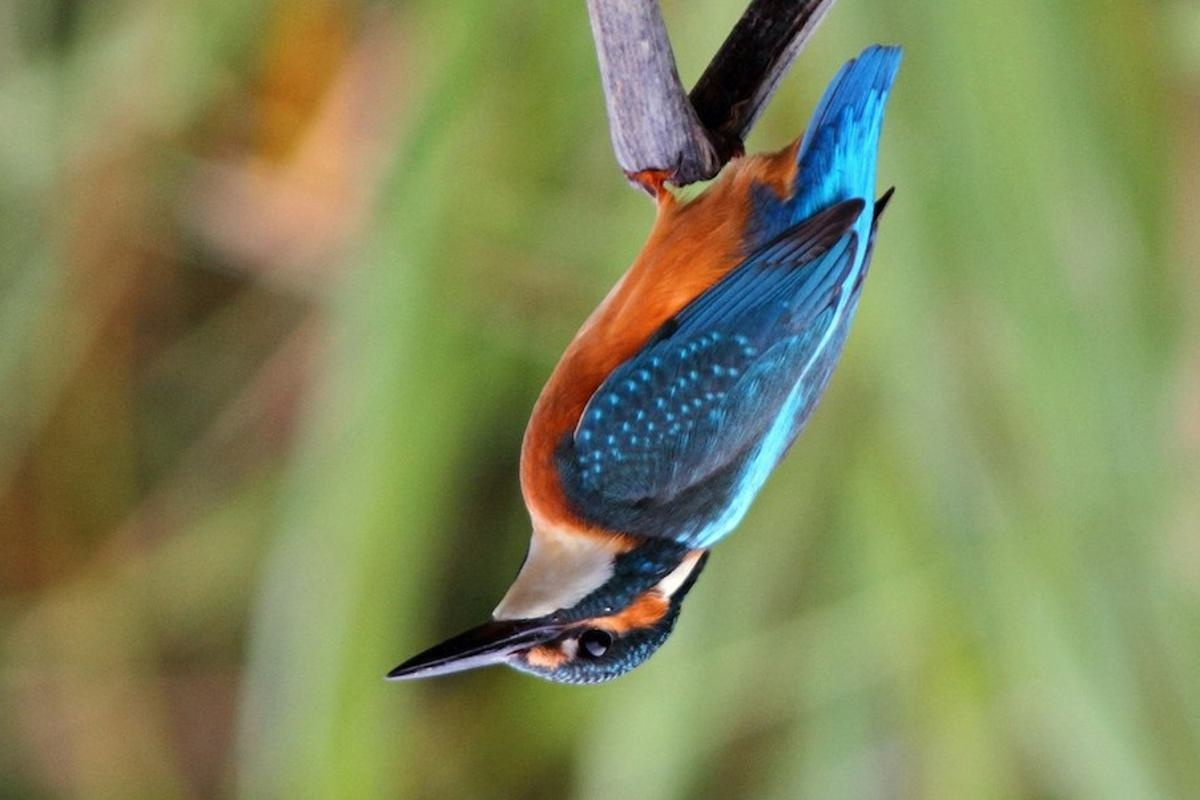kingfisher: (396, 65, 914, 705)
